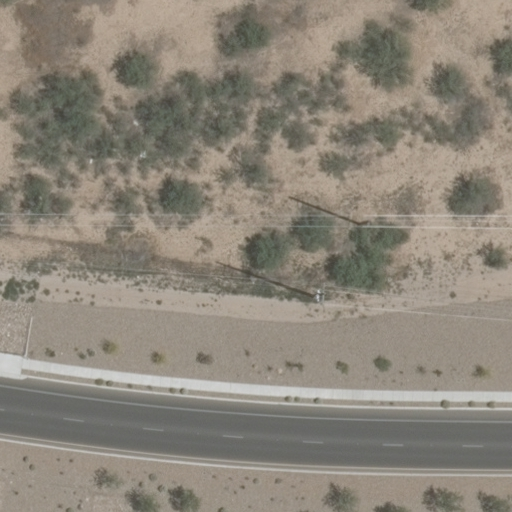DT: (306, 276, 330, 309), (350, 209, 380, 235)
